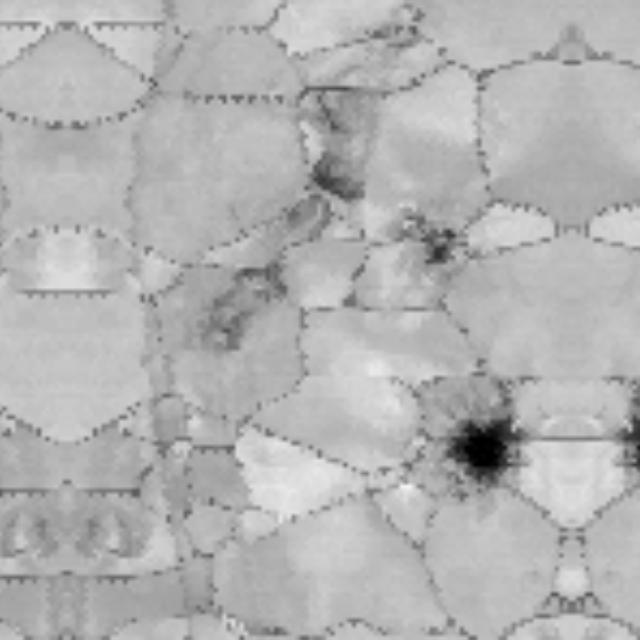good_void: (190, 252, 288, 359), (439, 399, 540, 487), (387, 192, 469, 275), (69, 501, 158, 571), (297, 89, 378, 148), (0, 501, 65, 571), (300, 158, 375, 214), (606, 399, 640, 487)
